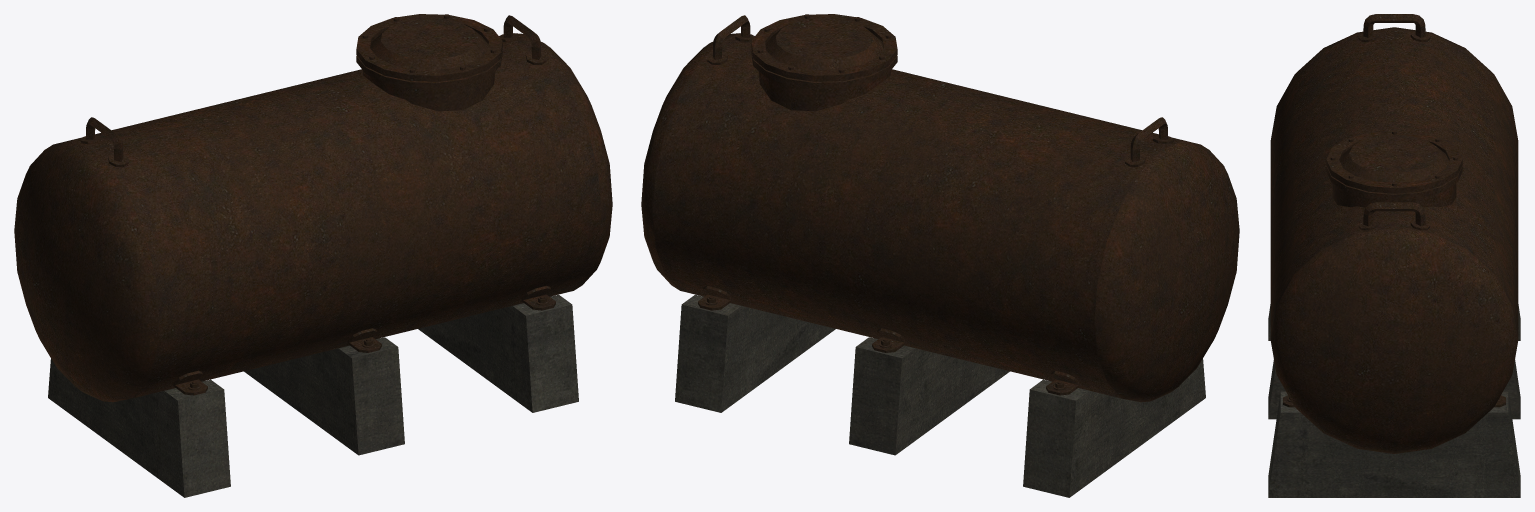
Rendered from tank_mx_1.obj.
3 renders of one model, left to right at view 1: azimuth 30°, elevation 25°; view 2: azimuth 150°, elevation 25°; view 3: azimuth 270°, elevation 25°, orthographic. The views are drawn at different scales.
Visible parts, largest first — view 1: tank_mx_1; view 2: tank_mx_1; view 3: tank_mx_1.
Part boxes in pixels (x1,y1,x2,y2): tank_mx_1: (14, 14, 612, 497); tank_mx_1: (641, 14, 1239, 497); tank_mx_1: (1268, 14, 1520, 497).
Size of the model in its own units: 4.54 by 2.74 by 2.04.
